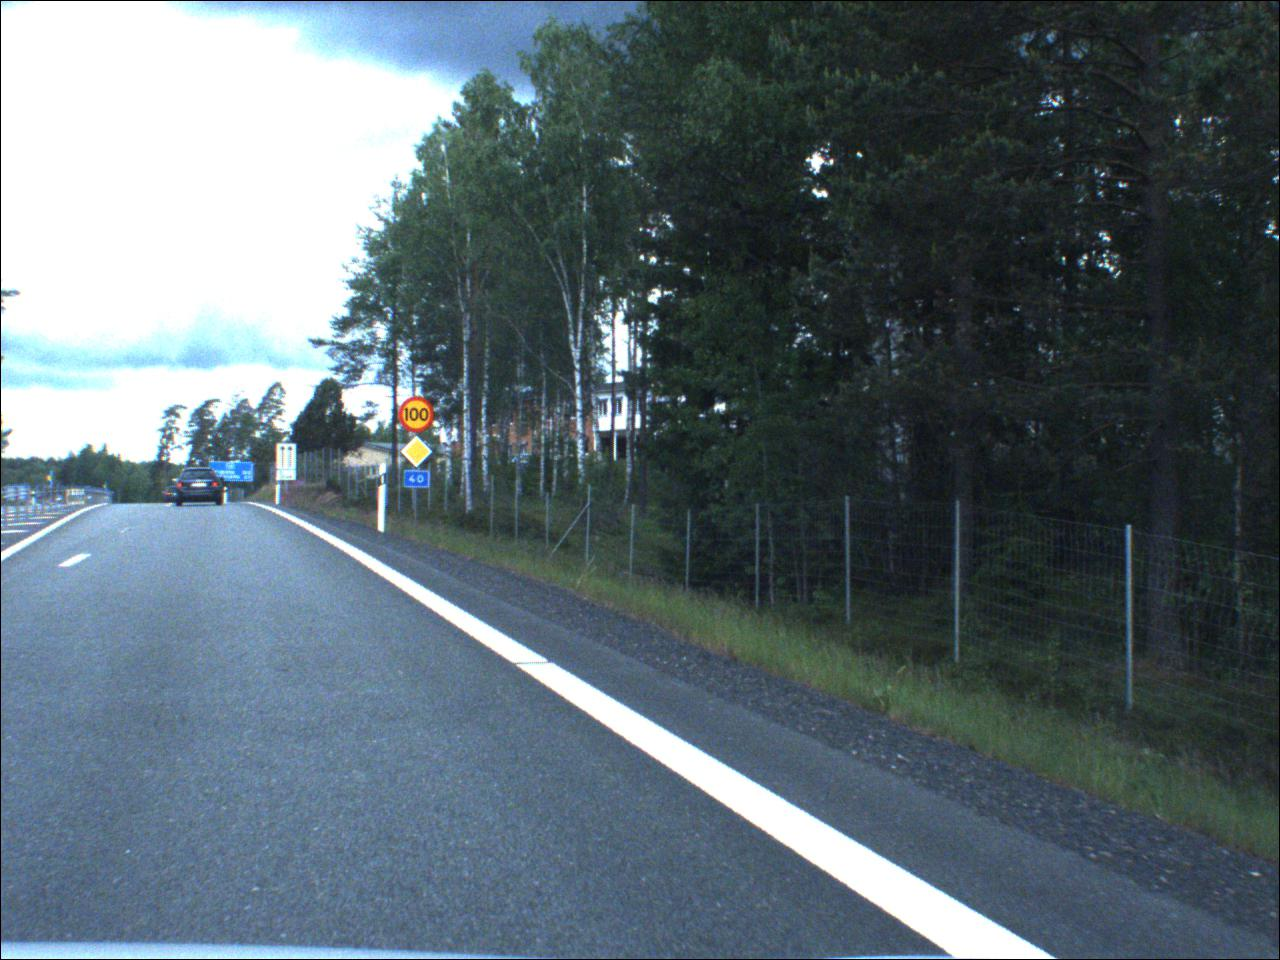100_SIGN: (401, 399, 438, 435)
PRIORITY_ROAD: (402, 436, 437, 469)
